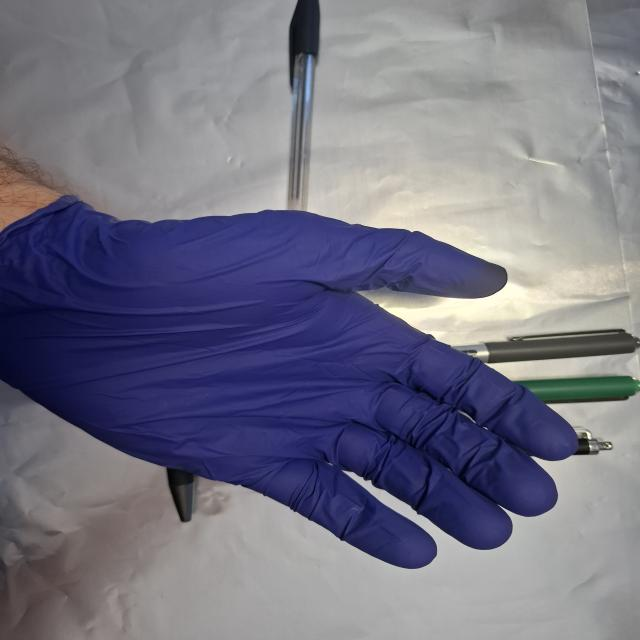glove_on: (5, 190, 585, 572)
